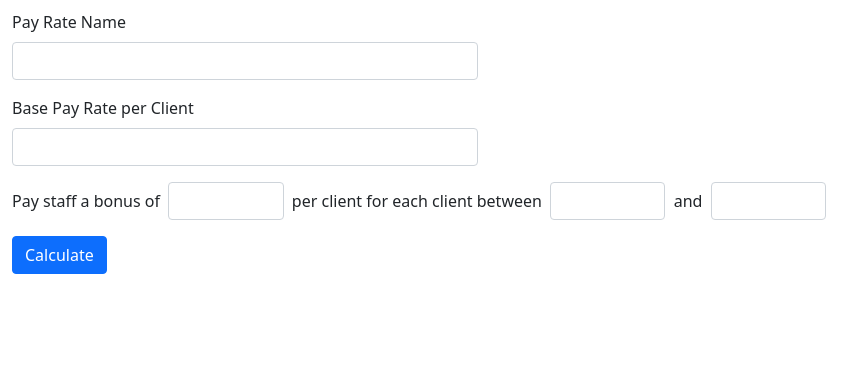
Test: CalculatorForm › bonusRate field validations › renders error message when field value is filled with a negative number
This screenshot has width=843, height=366.
In the number field with test id "bonusRate": (226, 201) top-left (168, 182), bottom-right (284, 220), type "-5"
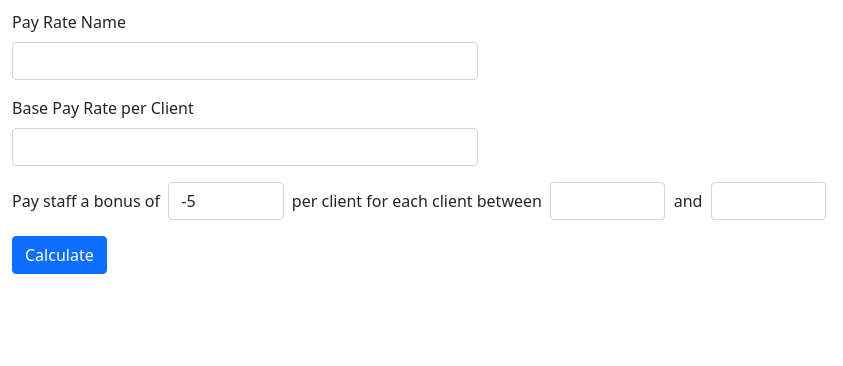
Submit the form from the button, box top-left (12, 236), bottom-right (107, 274)
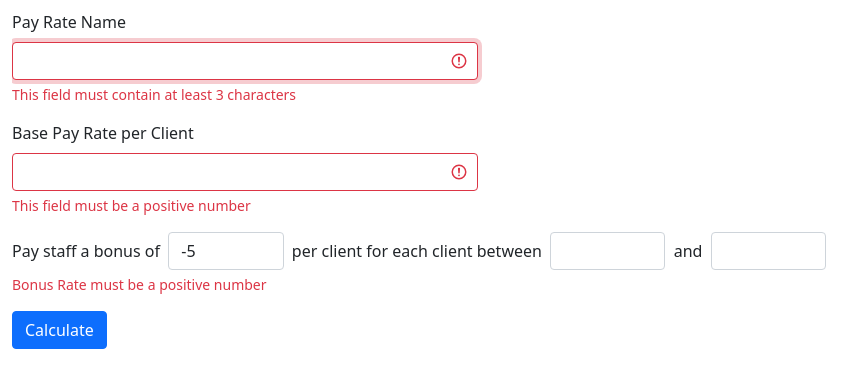
Expected: the text "This field must be a positive number" is shown, top-left (12, 196), bottom-right (251, 215)
